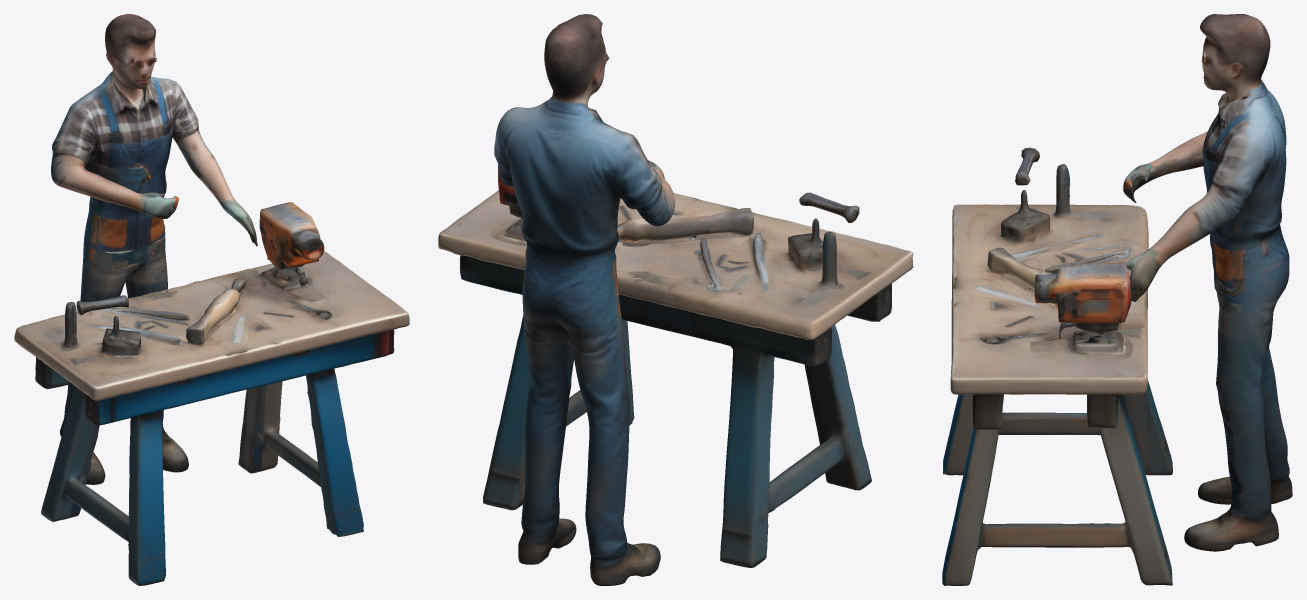
File: worker.glb
3 views of the same model, side by side, from view 1: azimuth 30°, elevation 25°; view 2: azimuth 150°, elevation 25°; view 3: azimuth 270°, elevation 25° (orthographic). The views are drawn at different scales.
Size of the model in its own units: 1.47 by 1.99 by 1.24.
Materials: 1 (1 with a texture image).
